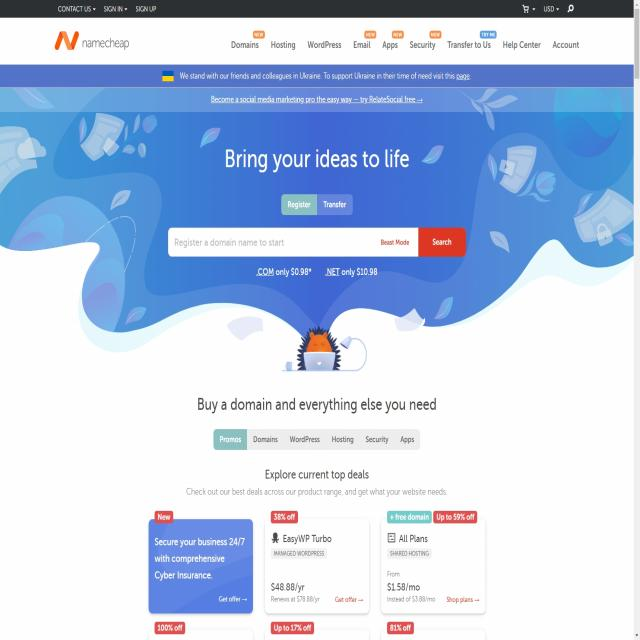menu-bar: (225, 26, 590, 60)
menu-panel: (210, 422, 422, 455)
search: (165, 222, 468, 260)
